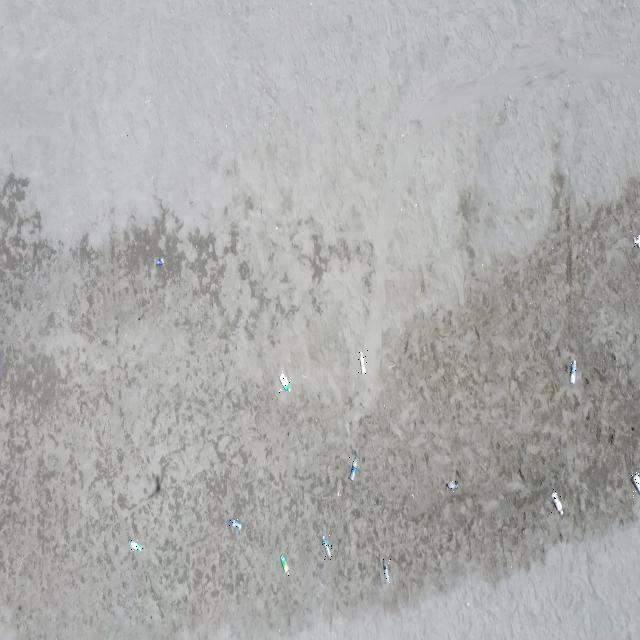plastic-bottle: (551, 488, 564, 516), (321, 534, 332, 560), (279, 371, 291, 393), (280, 552, 290, 578), (358, 350, 368, 374), (631, 472, 640, 498), (229, 517, 242, 534), (569, 359, 577, 386), (382, 559, 391, 583), (348, 455, 356, 482), (128, 540, 143, 553), (445, 479, 459, 492), (633, 234, 640, 250), (155, 256, 165, 267)
